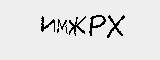Ж: (65, 15, 86, 39)
И: (37, 14, 56, 34)
М: (57, 15, 69, 37)
Р: (88, 13, 108, 39)
Х: (105, 12, 126, 41)
